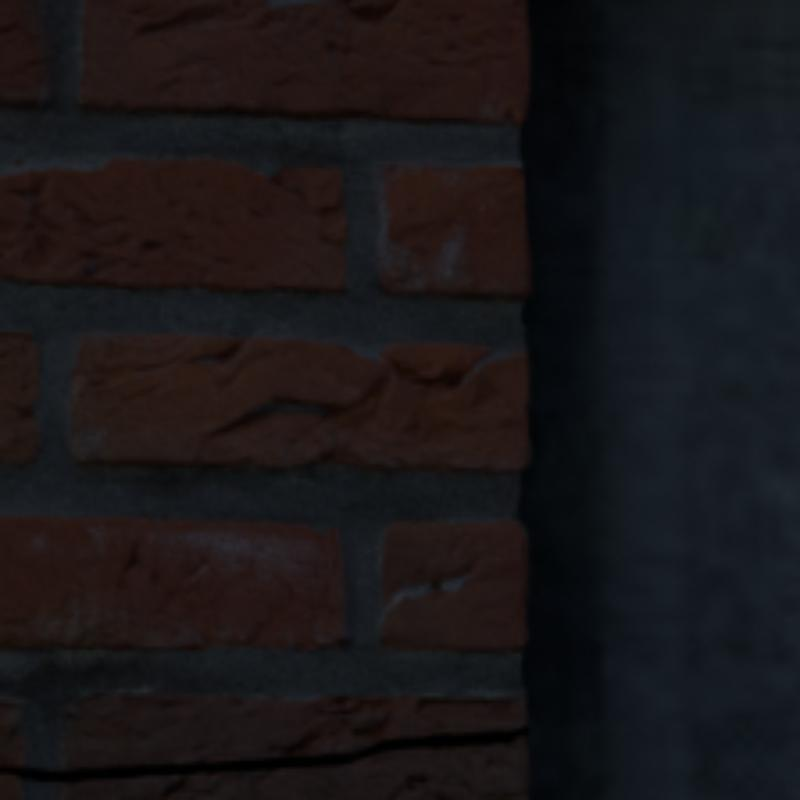pothole: (0, 732, 518, 779)
